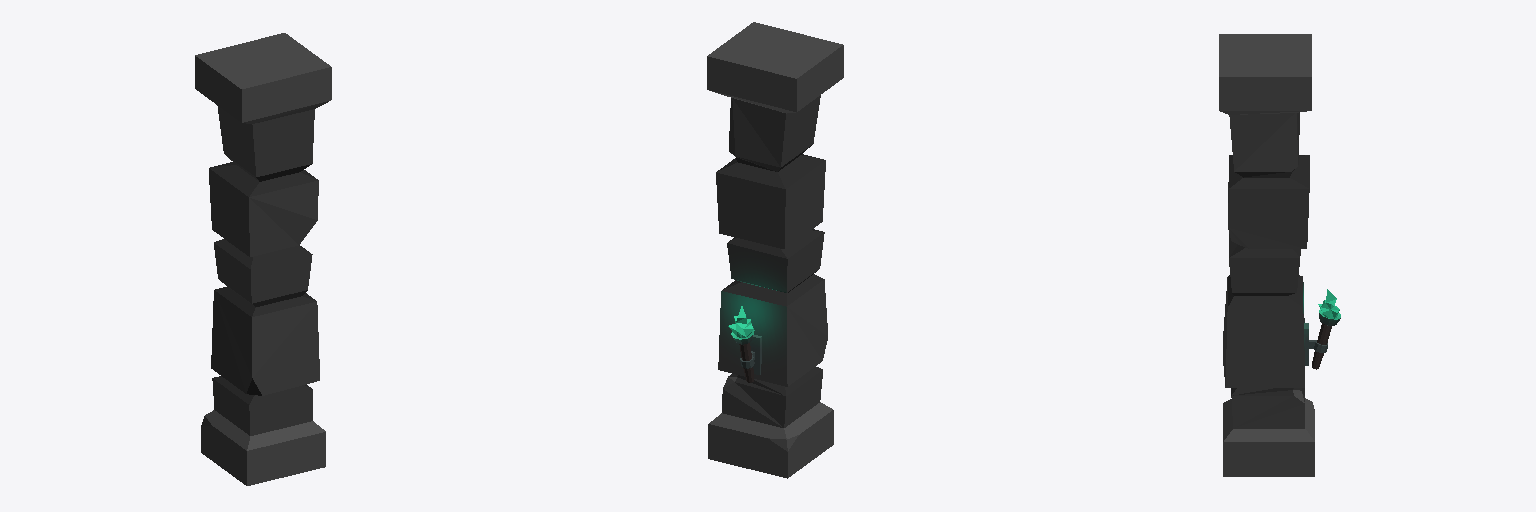
3 renders of one model, left to right at view 1: azimuth 30°, elevation 25°; view 2: azimuth 150°, elevation 25°; view 3: azimuth 270°, elevation 25°, orthographic.
Visible parts, largest first — view 1: Pillarv2StoneWithBTorch:StonePillarWithTorch; view 2: Pillarv2StoneWithBTorch:StonePillarWithTorch; view 3: Pillarv2StoneWithBTorch:StonePillarWithTorch.
Part boxes in pixels (bbox=[...]): Pillarv2StoneWithBTorch:StonePillarWithTorch: bbox=[195, 33, 331, 485]; Pillarv2StoneWithBTorch:StonePillarWithTorch: bbox=[707, 22, 843, 478]; Pillarv2StoneWithBTorch:StonePillarWithTorch: bbox=[1219, 34, 1340, 476].
Size of the model in its own units: 5.98 by 25.45 by 7.06.
Materials: 1 (1 with a texture image).